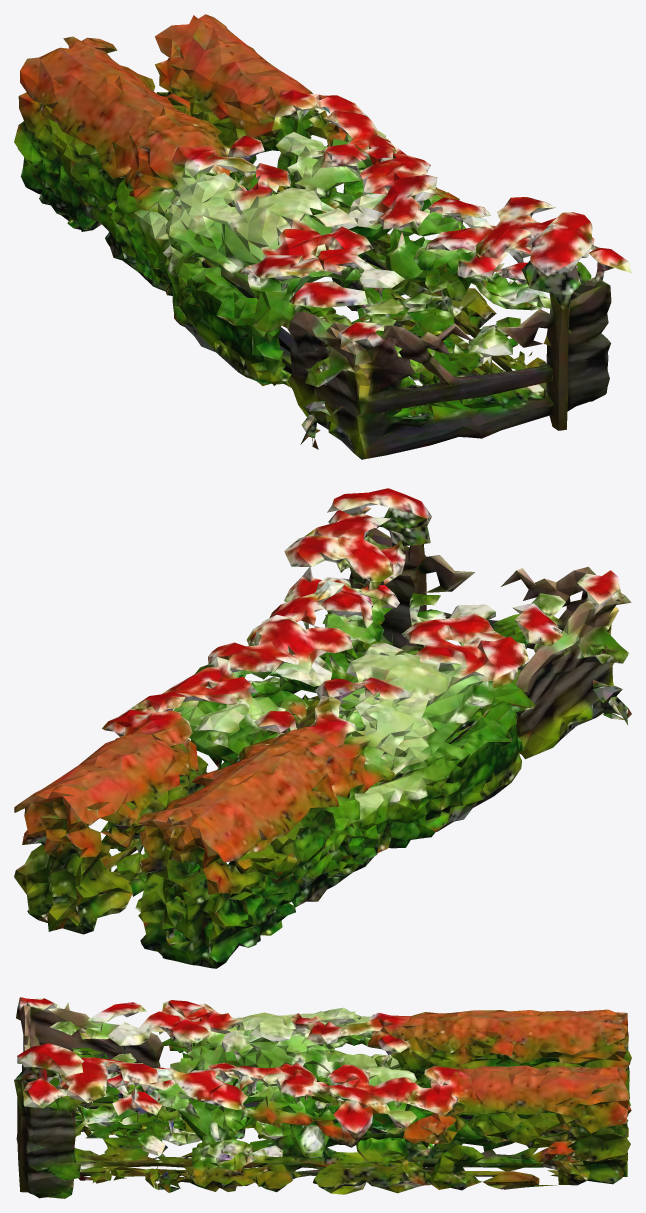
Rendered from nature_flowers_02.glb.
The picture shows the model from 3 angles, top to bottom: view 1: azimuth 30°, elevation 25°; view 2: azimuth 150°, elevation 25°; view 3: azimuth 270°, elevation 25°; orthographic projection. The views are drawn at different scales.
Parts seen in each view (by area): view 1: geometry_0; view 2: geometry_0; view 3: geometry_0.
Boxes of the visible parts, box(x1,y1,x2,y2) form: geometry_0: box(14, 14, 631, 459); geometry_0: box(14, 488, 631, 968); geometry_0: box(14, 997, 631, 1198).
Bounding box in the file's own units: 0.4734 × 0.2701 × 0.9995.
Materials: 1 (1 with a texture image).
